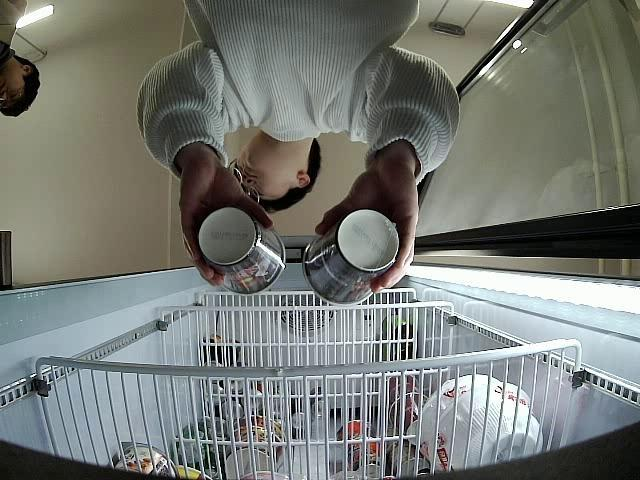08_buldak_S: (303, 206, 404, 306), (194, 207, 288, 297)
